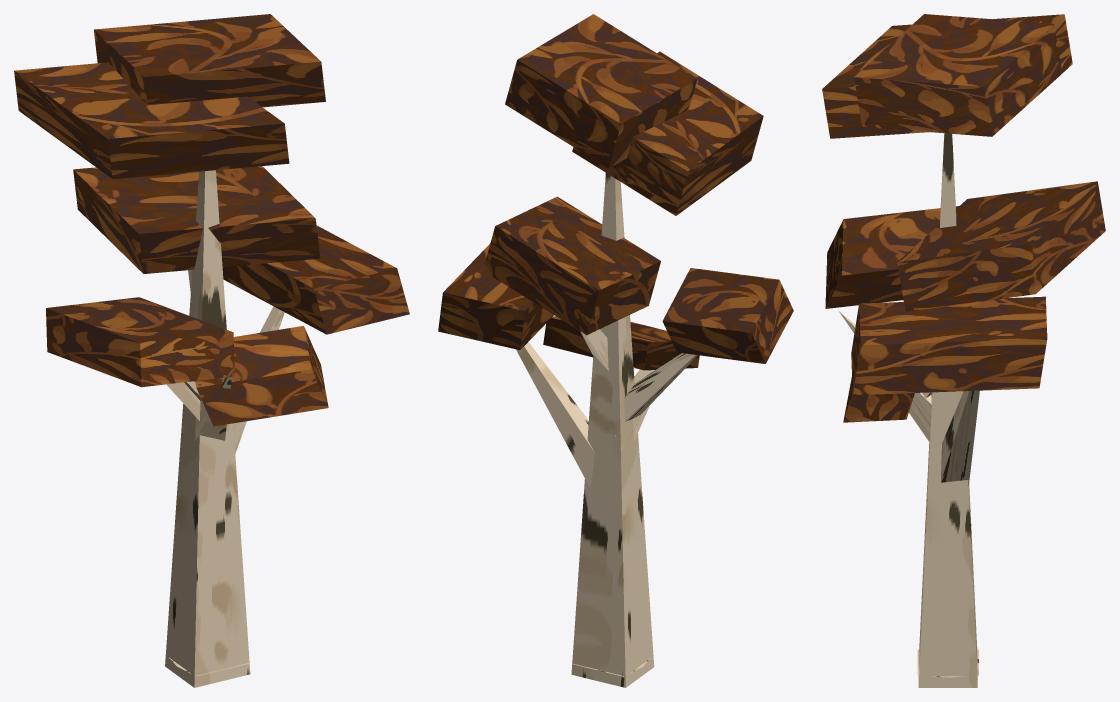
File: D_Tree_small_lowest_poly.fbx
The picture shows the model from 3 angles, left to right: view 1: azimuth 30°, elevation 25°; view 2: azimuth 150°, elevation 25°; view 3: azimuth 270°, elevation 25°; orthographic projection. The views are drawn at different scales.
Visible parts, largest first — view 1: tree; view 2: tree; view 3: tree.
Part boxes in pixels (<box>): tree: <box>14,14,409,687</box>; tree: <box>438,14,793,687</box>; tree: <box>822,14,1105,687</box>.
Bounding box in the file's own units: 7.49 × 14.3 × 5.84.
